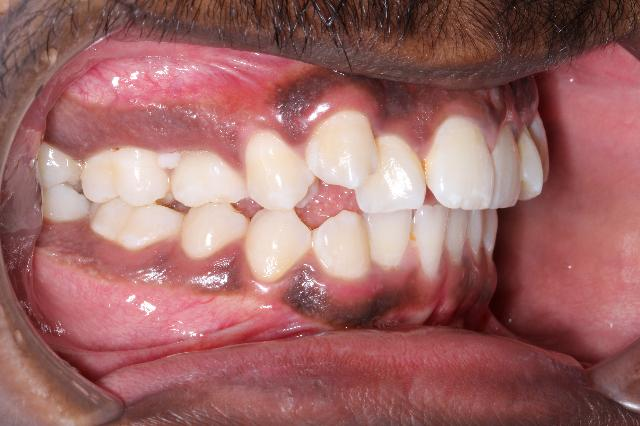canine class II 3/4: (248, 104, 380, 290)
molar class I: (80, 138, 184, 256)
